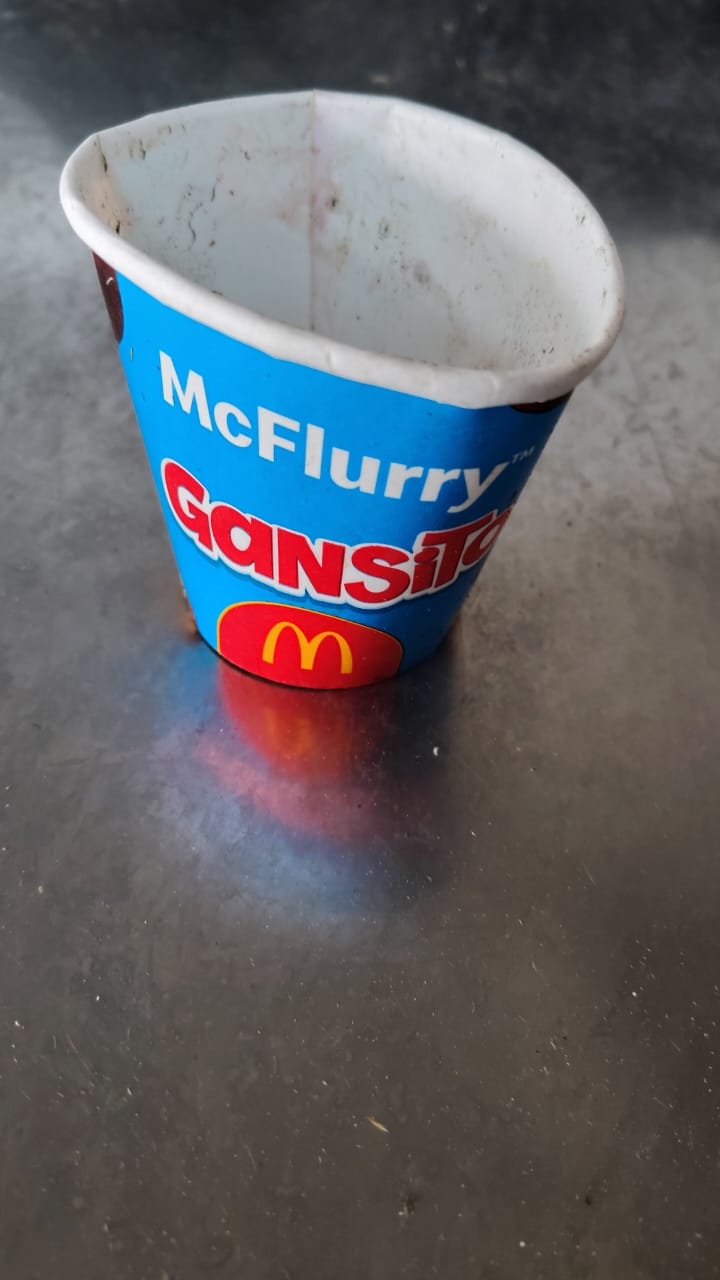Carton: (61, 89, 623, 691)
